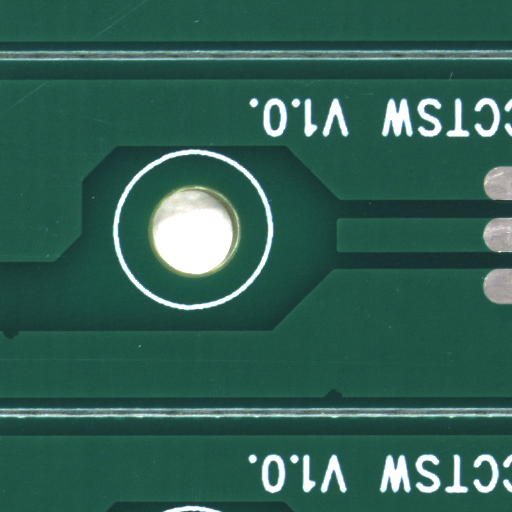Mouse_bite: (332, 393, 350, 404), (11, 334, 26, 343)
